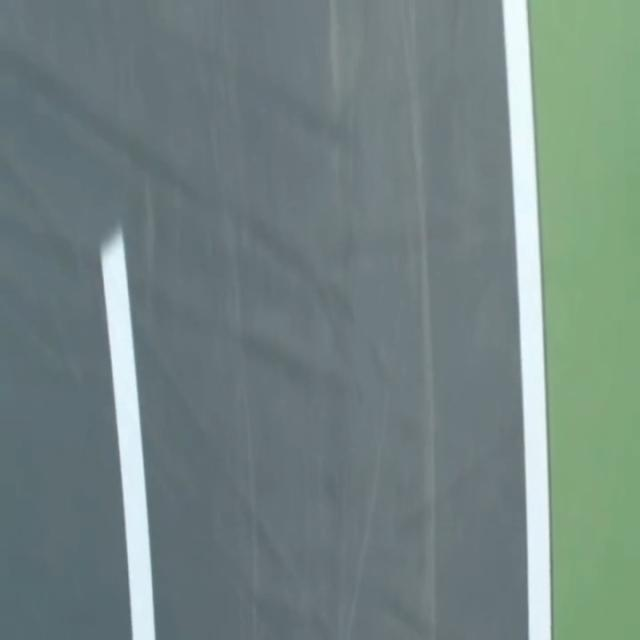center: (100, 228, 155, 639)
right: (502, 0, 551, 639)
